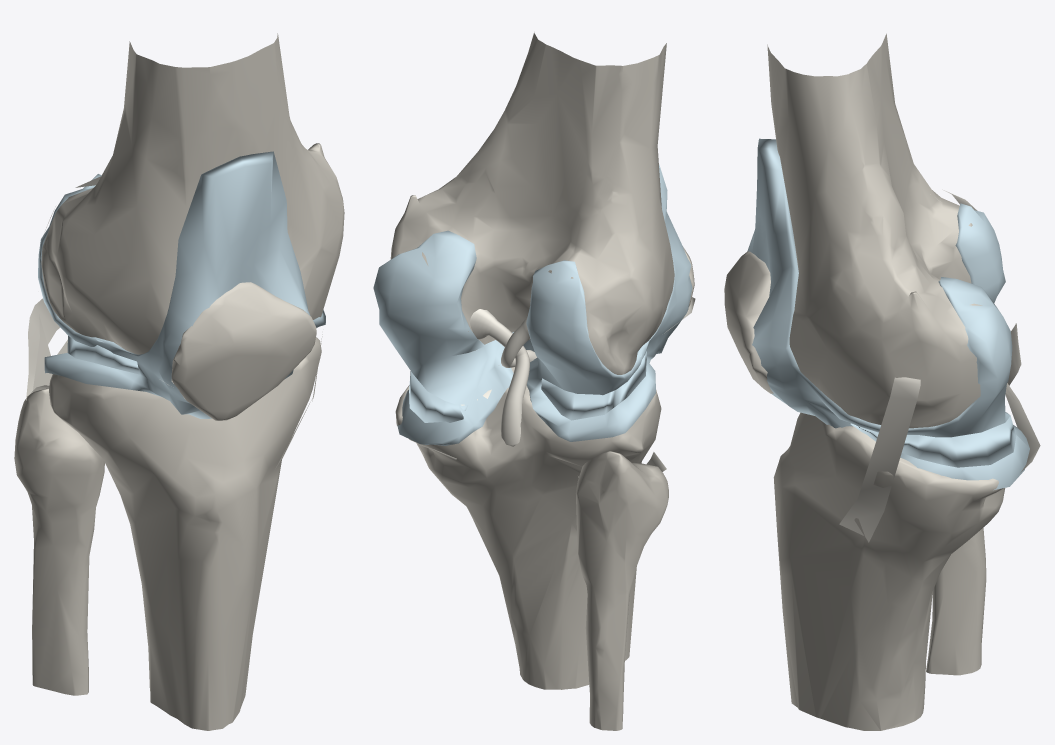
File: knee-v1.glb
3 renders of one model, left to right at view 1: azimuth 30°, elevation 25°; view 2: azimuth 150°, elevation 25°; view 3: azimuth 270°, elevation 25°, orthographic. The views are drawn at different scales.
Parts seen in each view (by area): view 1: Tibia.r, Femur.r, Articular capsule of knee joint.r, Fibula.r, Patella.r, Popliteofibular ligament.r, Lateral meniscus.r, Arcuate popliteal ligament.r; view 2: Femur.r, Articular capsule of knee joint.r, Tibia.r, Fibula.r, Posterior cruciate ligament.r, Lateral meniscus.r, Medial meniscus.r, Anterior cruciate ligament.r; view 3: Femur.r, Tibia.r, Articular capsule of knee joint.r, Fibula.r, Superficial part of tibial collateral ligament.r, Patella.r, Medial meniscus.r, Oblique popliteal ligament.r.
Boxes of the visible parts, bbox=[...] form: Tibia.r: bbox=[49, 337, 321, 730]; Femur.r: bbox=[41, 33, 344, 354]; Articular capsule of knee joint.r: bbox=[38, 151, 325, 418]; Fibula.r: bbox=[14, 388, 104, 695]; Patella.r: bbox=[171, 282, 316, 420]; Popliteofibular ligament.r: bbox=[26, 298, 59, 400]; Lateral meniscus.r: bbox=[67, 335, 139, 374]; Arcuate popliteal ligament.r: bbox=[32, 176, 100, 392]; Femur.r: bbox=[390, 32, 674, 374]; Articular capsule of knee joint.r: bbox=[373, 164, 692, 445]; Tibia.r: bbox=[395, 367, 661, 689]; Fibula.r: bbox=[576, 451, 668, 730]; Posterior cruciate ligament.r: bbox=[470, 309, 529, 446]; Lateral meniscus.r: bbox=[541, 350, 646, 420]; Medial meniscus.r: bbox=[409, 371, 467, 422]; Anterior cruciate ligament.r: bbox=[501, 317, 537, 367]; Femur.r: bbox=[767, 33, 982, 428]; Tibia.r: bbox=[773, 412, 1005, 730]; Articular capsule of knee joint.r: bbox=[747, 138, 1029, 490]; Fibula.r: bbox=[926, 527, 986, 675]; Superficial part of tibial collateral ligament.r: bbox=[839, 377, 920, 542]; Patella.r: bbox=[724, 251, 773, 393]; Medial meniscus.r: bbox=[850, 416, 1015, 467]; Oblique popliteal ligament.r: bbox=[930, 194, 1040, 472].
Bounding box in the file's own units: 0.0929 × 0.2 × 0.0871.
